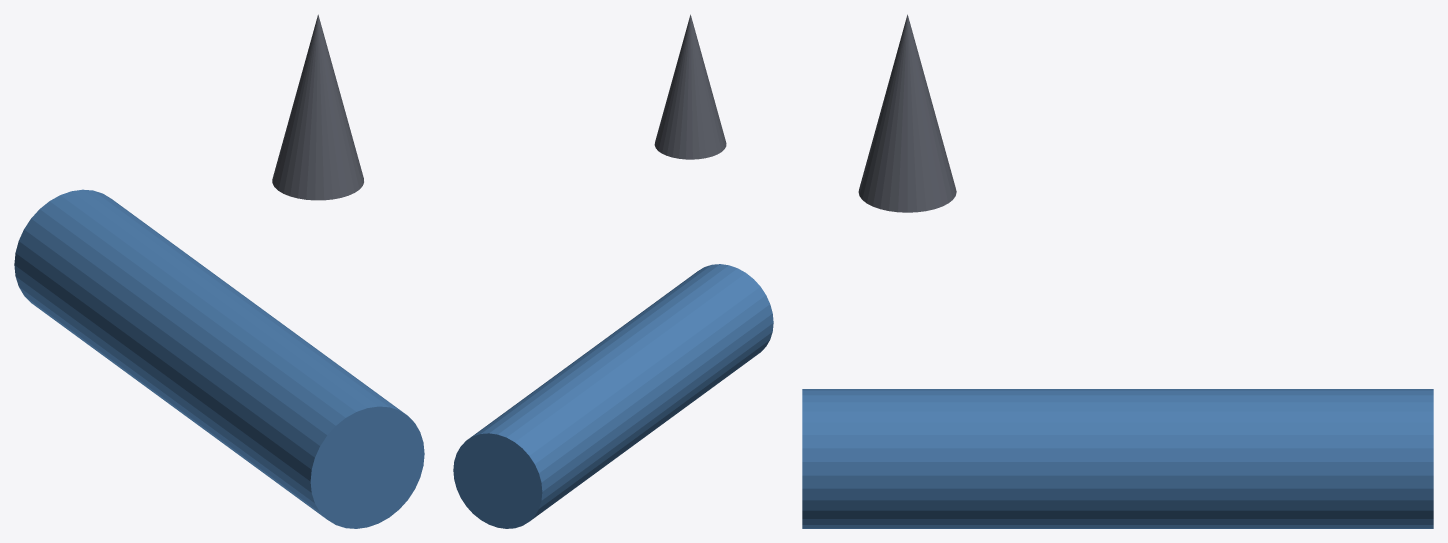
Rendered from AL_ShrikeInterceptor_LOD0.glb.
3 renders of one model, left to right at view 1: azimuth 30°, elevation 25°; view 2: azimuth 150°, elevation 25°; view 3: azimuth 270°, elevation 25°, orthographic. The views are drawn at different scales.
Parts seen in each view (by area): view 1: Cylinder, Cone; view 2: Cylinder, Cone; view 3: Cylinder, Cone.
Boxes of the visible parts, left/top/right/bottom form: Cylinder: left=14, top=189, right=424, bottom=528; Cone: left=272, top=14, right=363, bottom=200; Cylinder: left=453, top=264, right=773, bottom=528; Cone: left=654, top=14, right=726, bottom=159; Cylinder: left=802, top=389, right=1433, bottom=528; Cone: left=858, top=14, right=956, bottom=212.
Size of the model in its own units: 1 by 4 by 4.5.
